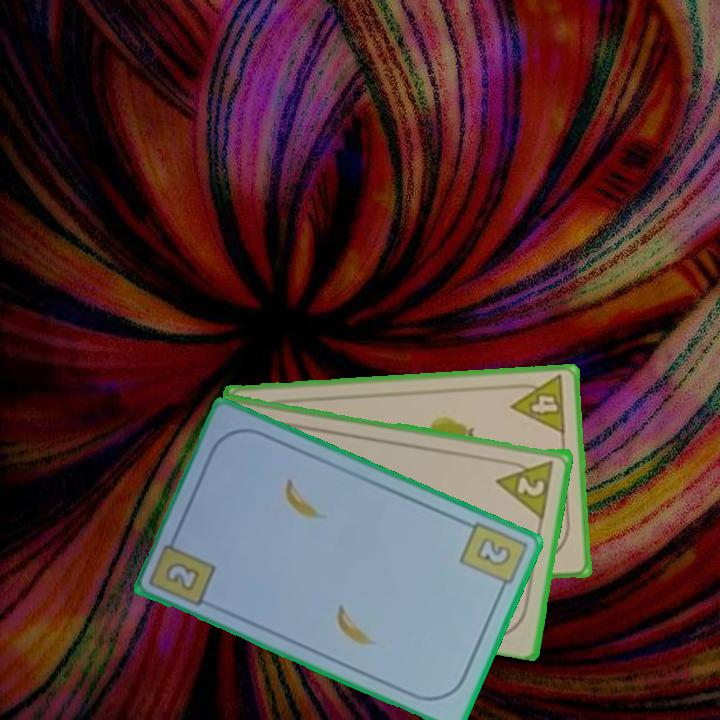2b: (456, 517, 530, 598), (162, 558, 203, 595)
2p: (494, 455, 557, 519)
4p: (507, 372, 569, 437)
